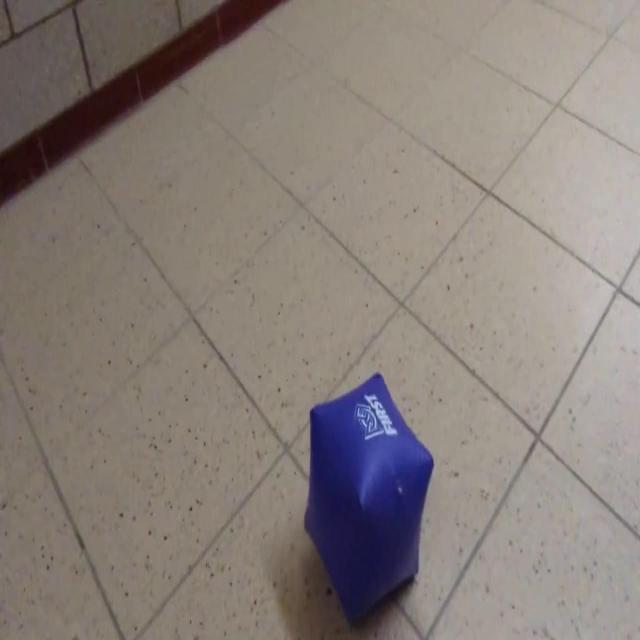frc_cube: (299, 366, 437, 631)
